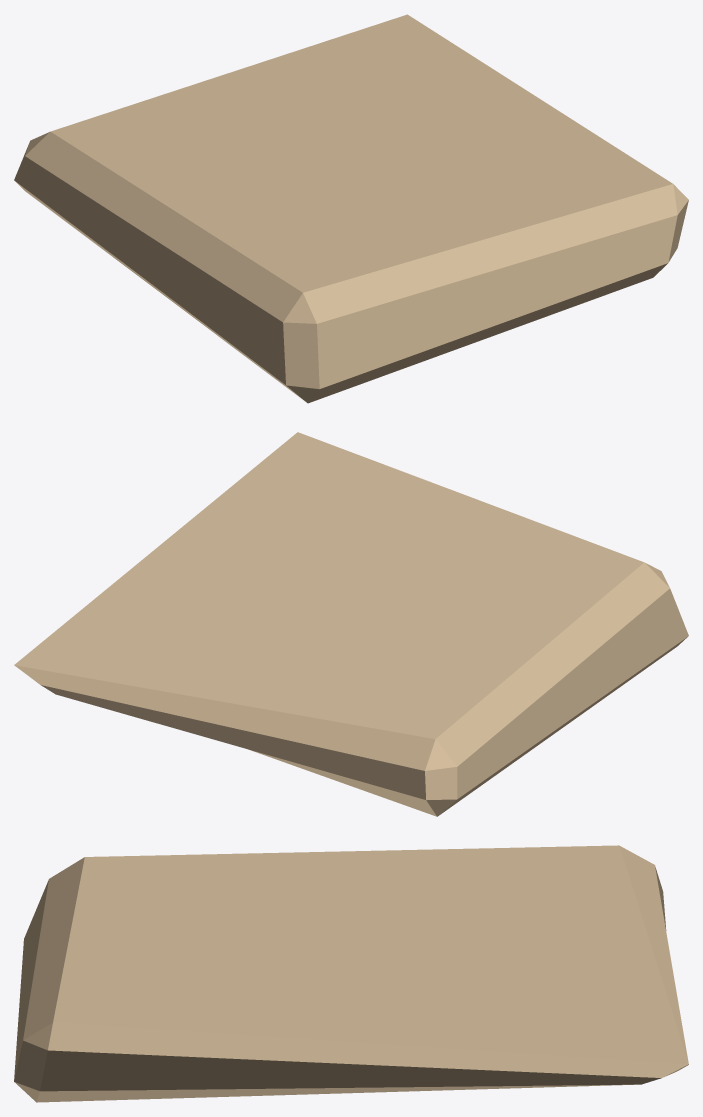
Rendered from slab.glb.
The picture shows the model from 3 angles, top to bottom: view 1: azimuth 30°, elevation 25°; view 2: azimuth 150°, elevation 25°; view 3: azimuth 270°, elevation 25°; orthographic projection. The views are drawn at different scales.
Parts seen in each view (by area): view 1: slab_stone; view 2: slab_stone; view 3: slab_stone.
Part boxes in pixels (bbox=[...]): slab_stone: bbox=[14, 14, 688, 403]; slab_stone: bbox=[14, 432, 688, 816]; slab_stone: bbox=[14, 845, 688, 1102].
Bounding box in the file's own units: 1.5 × 0.4273 × 1.79.
